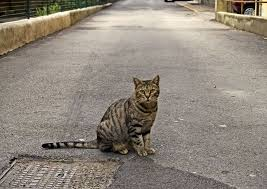cat: (36, 72, 163, 163)
